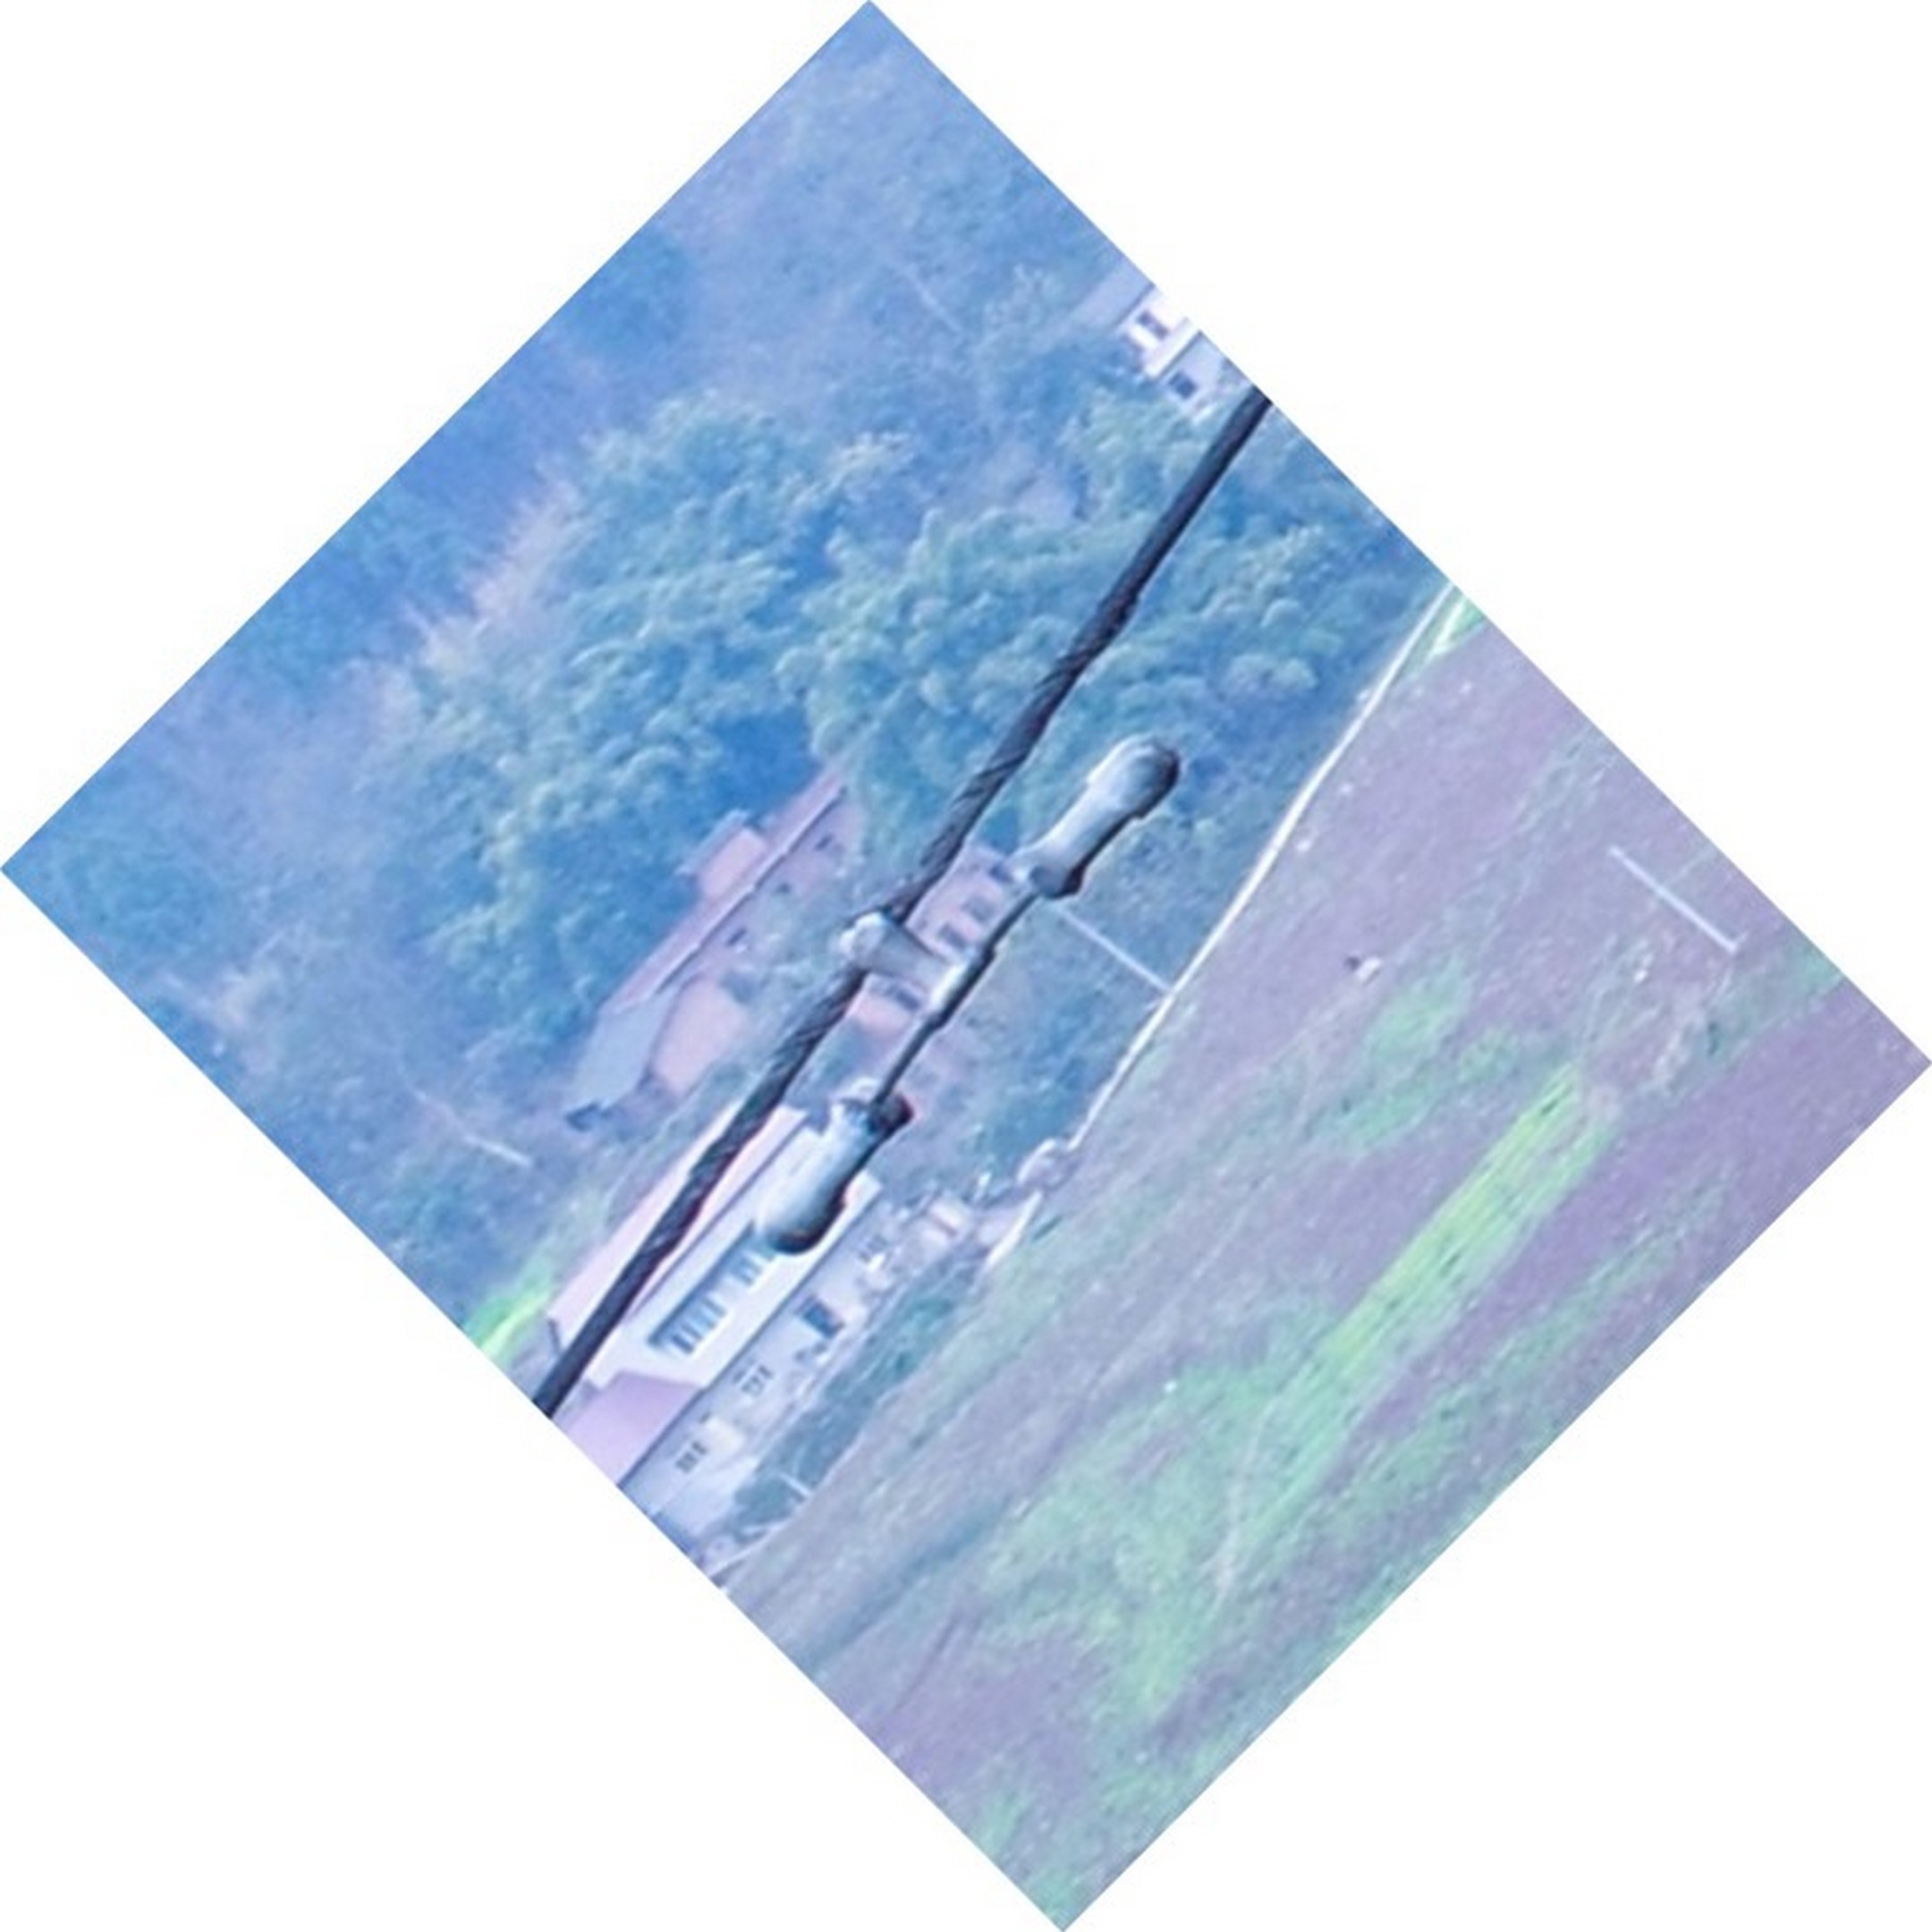Shockproof hammer: (720, 704, 1226, 1272)
